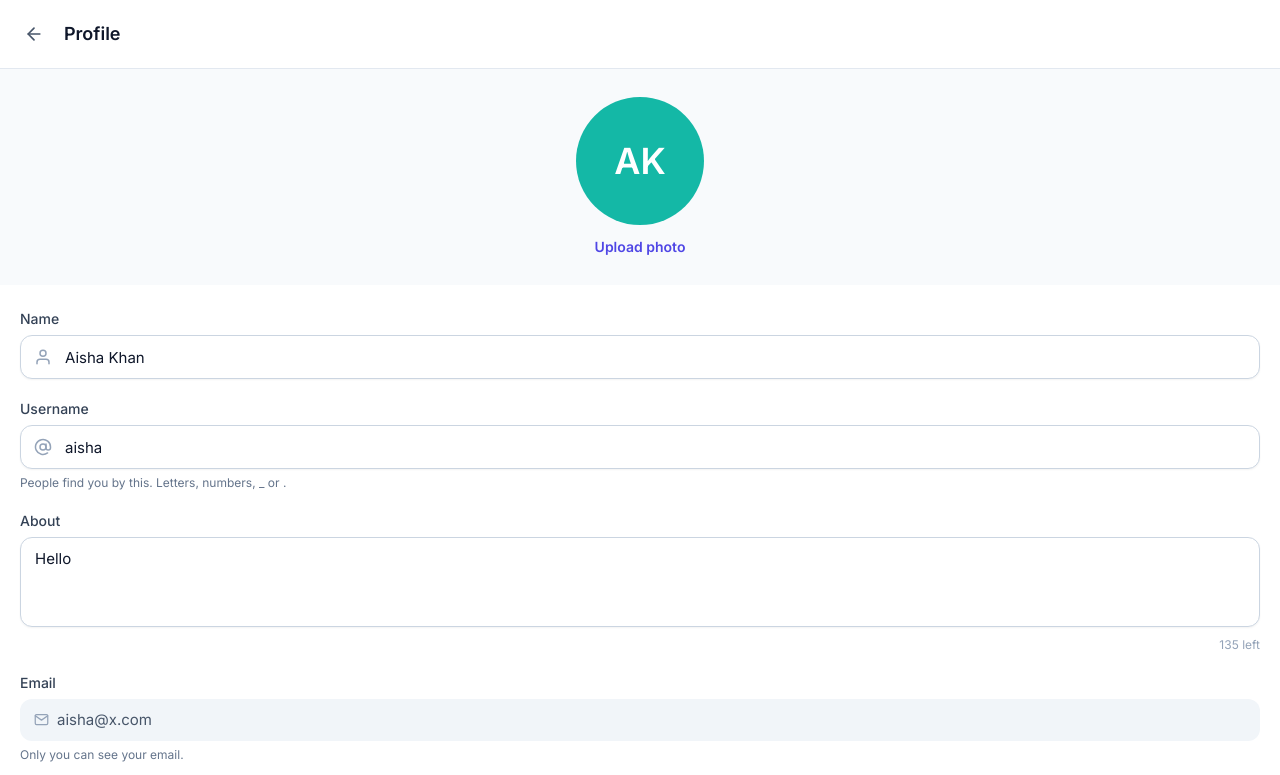
Scenario: ProfilePanel › validates the username before sending
Replace the text in the field showing "aisha" with "a b": (640, 447) [20,425,1260,469]
(page scrolled)
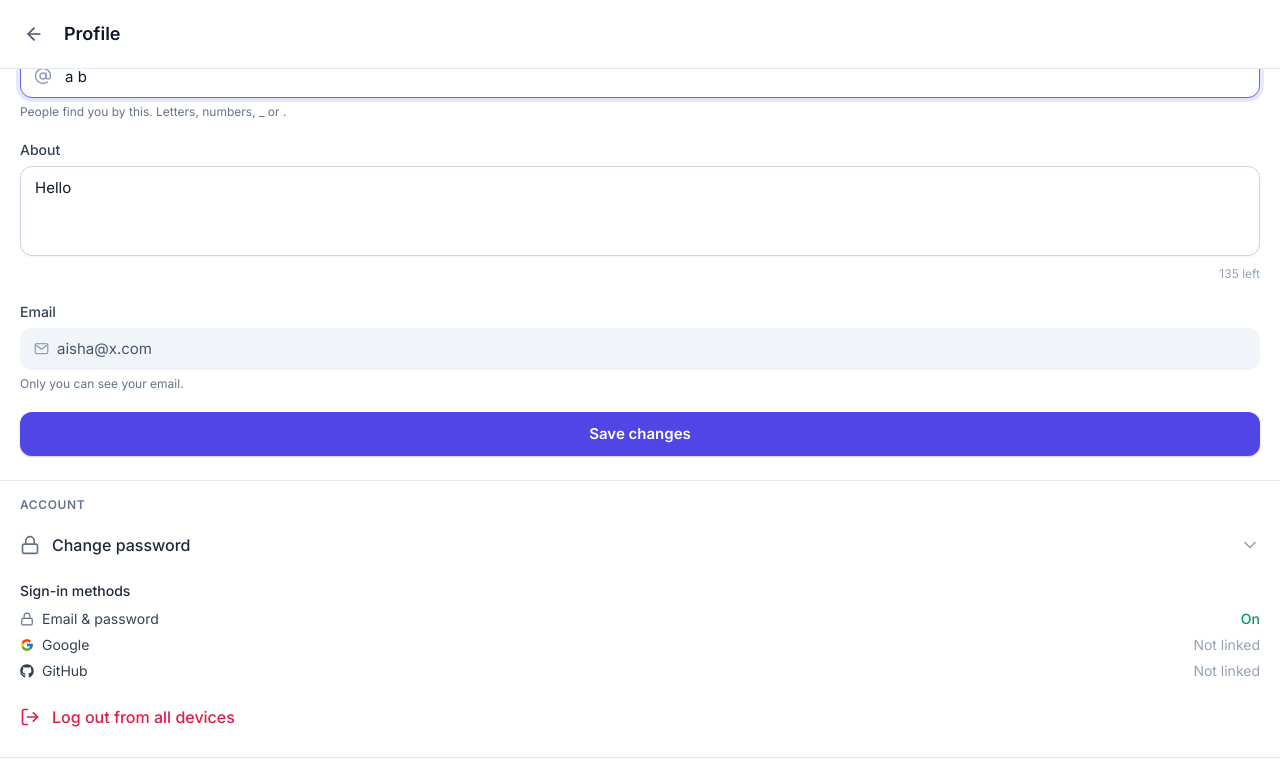
Click the button "Save changes": (640, 434) [20,412,1260,456]
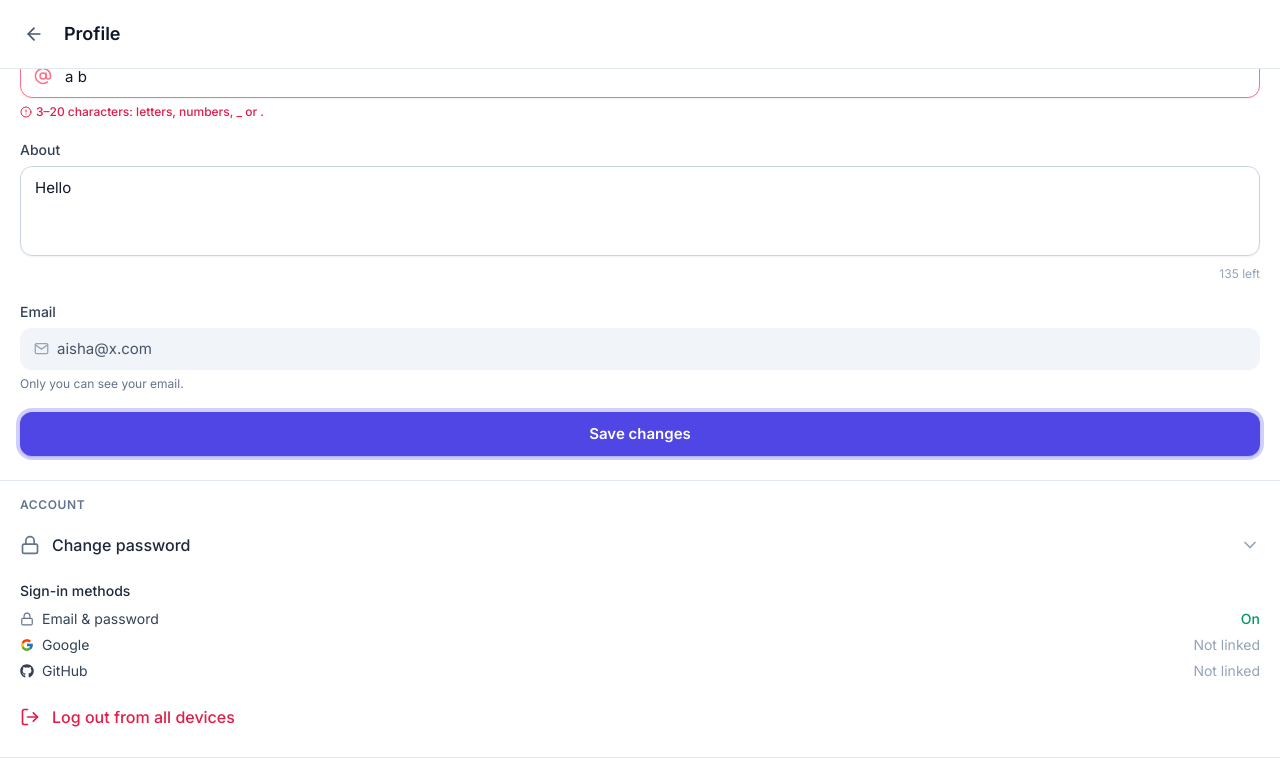
Now the message shows "3–20 characters", box [36,104,264,119]
